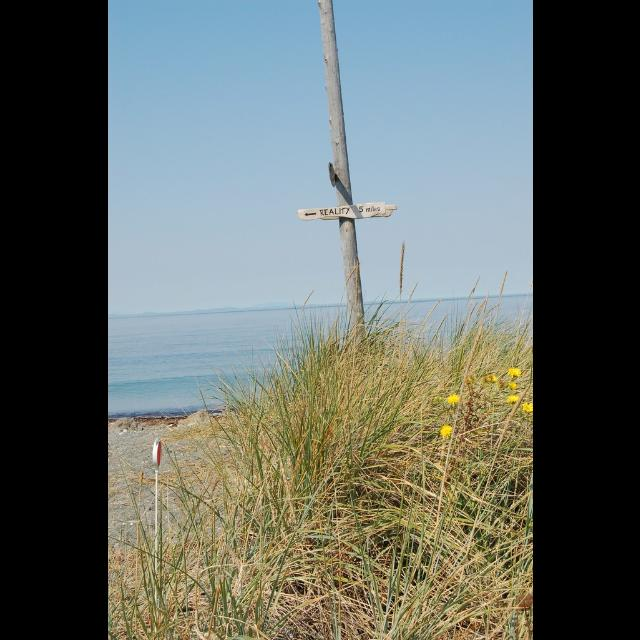Flower: (447, 390, 459, 406), (506, 366, 524, 376), (436, 427, 448, 439), (504, 392, 516, 403), (522, 402, 532, 414), (488, 372, 498, 383), (508, 382, 516, 390), (464, 376, 470, 384)
